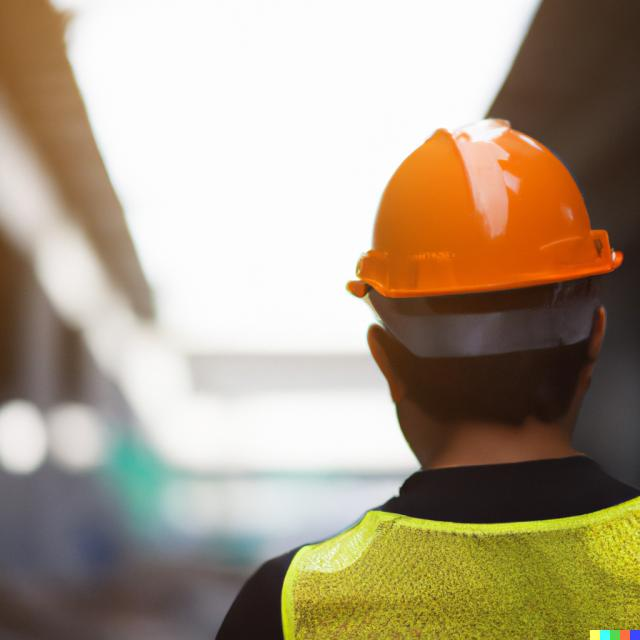Reflective-Jacket: (263, 467, 640, 639)
Safety-Helmet: (346, 121, 623, 297)
